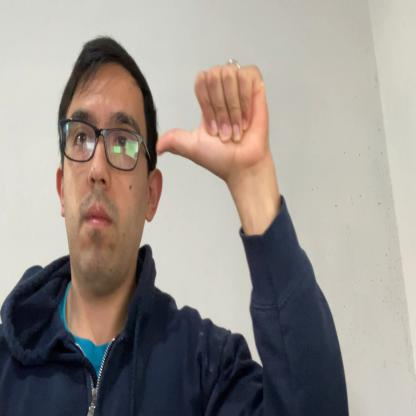A: (155, 60, 268, 177)
